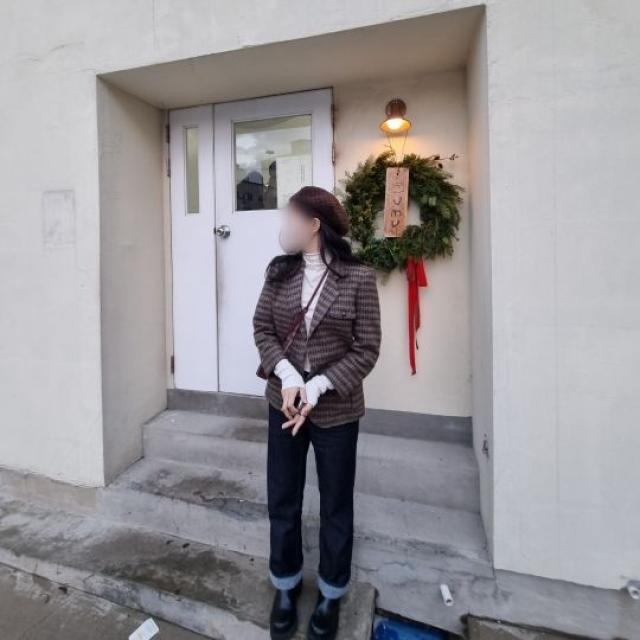blazer: (248, 252, 380, 431)
denimpants: (266, 359, 358, 597)
